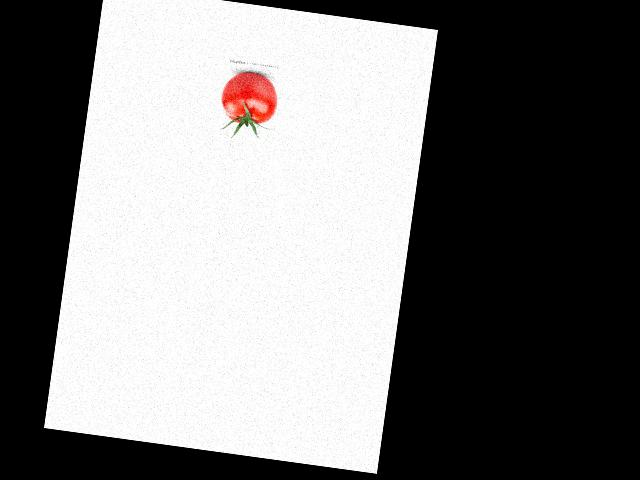tomato: (217, 69, 280, 127)
